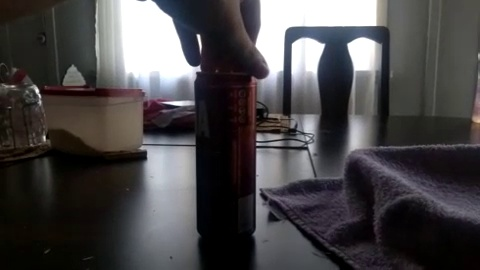duplo_malte: (181, 61, 272, 257)
